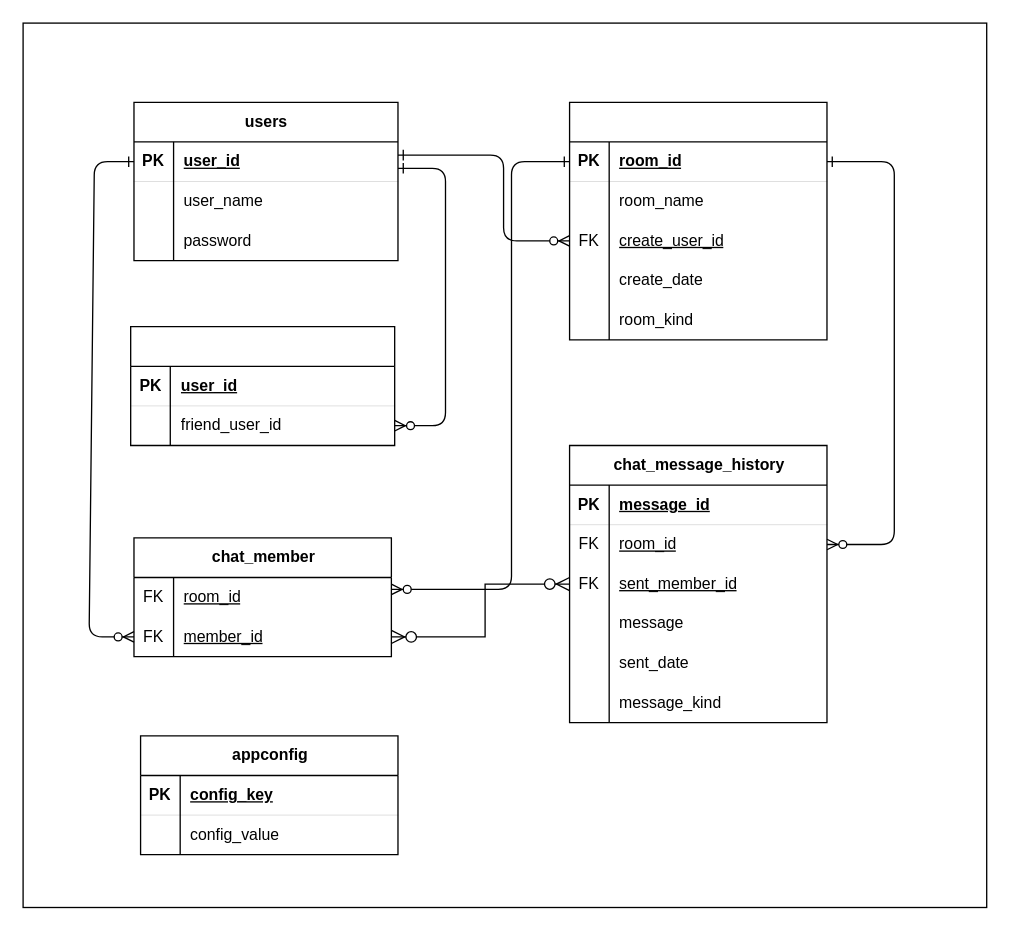
Some shapes in this 1010 by 931 pixel diagram are drawn without their labels. The shapes that lost their labels are listed below. From the top down, each one's box as (x1, y1, x2, y2) in pixels, then its label:
(568, 101, 827, 340): chat_room
(129, 325, 395, 446): friends
